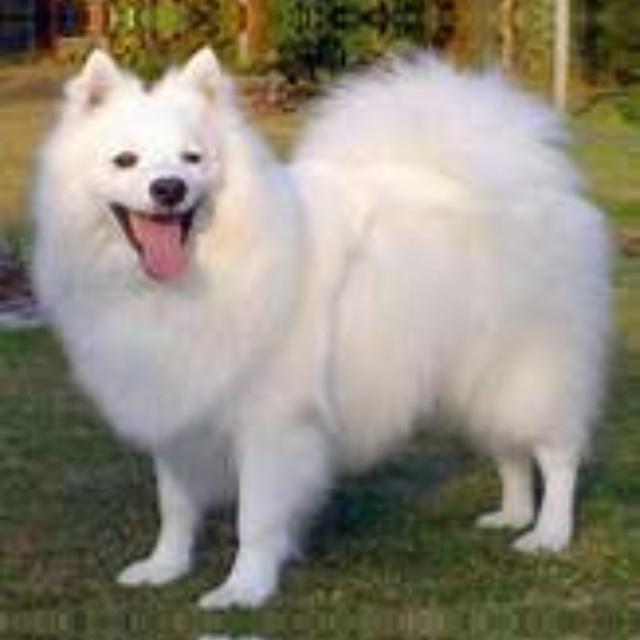dog: (46, 34, 620, 602)
